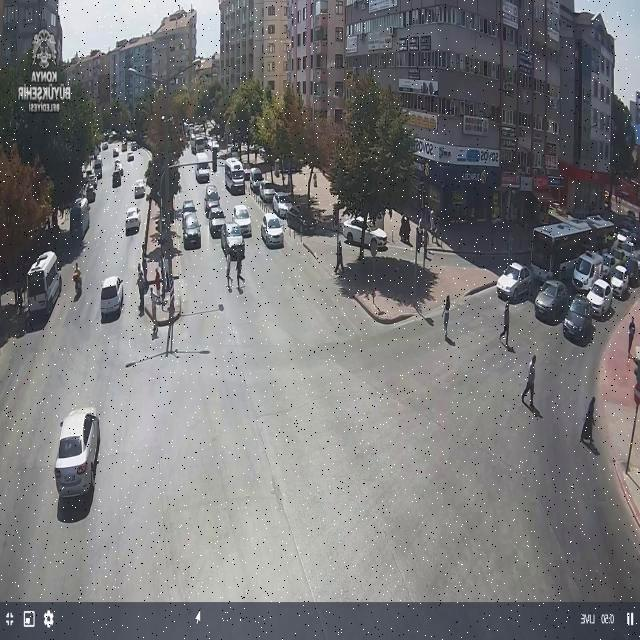Bus: (531, 218, 605, 276)
Car: (52, 407, 104, 498), (343, 216, 389, 252), (497, 262, 535, 302), (563, 296, 595, 342), (534, 280, 570, 320), (609, 231, 639, 272), (586, 279, 614, 317), (100, 276, 124, 316), (221, 223, 245, 258), (261, 212, 284, 248), (609, 266, 632, 300), (182, 212, 202, 247), (232, 204, 252, 237), (208, 207, 227, 238), (271, 192, 292, 218), (204, 187, 221, 214), (125, 206, 140, 234), (249, 167, 264, 193), (259, 181, 276, 203), (182, 199, 198, 219), (585, 215, 611, 227), (133, 179, 146, 198), (84, 183, 96, 203), (93, 160, 103, 178), (86, 170, 96, 183), (127, 151, 135, 161)
Van: (26, 252, 60, 316), (571, 251, 605, 291), (224, 157, 246, 192), (72, 196, 91, 236), (195, 152, 211, 182)
